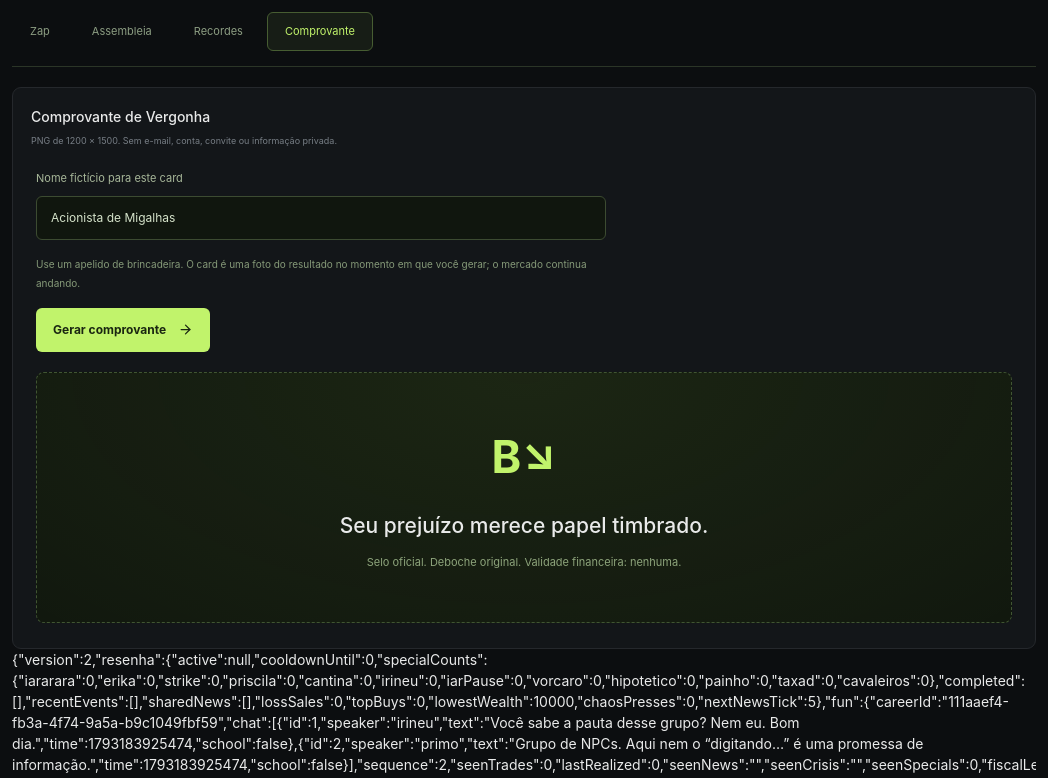
Test: Central da Resenha › comprovante não aparece como pronto se o PNG falhar
The image size is (1048, 778).
Click the button "Gerar comprovante" at (123, 330), box [36, 308, 210, 352]
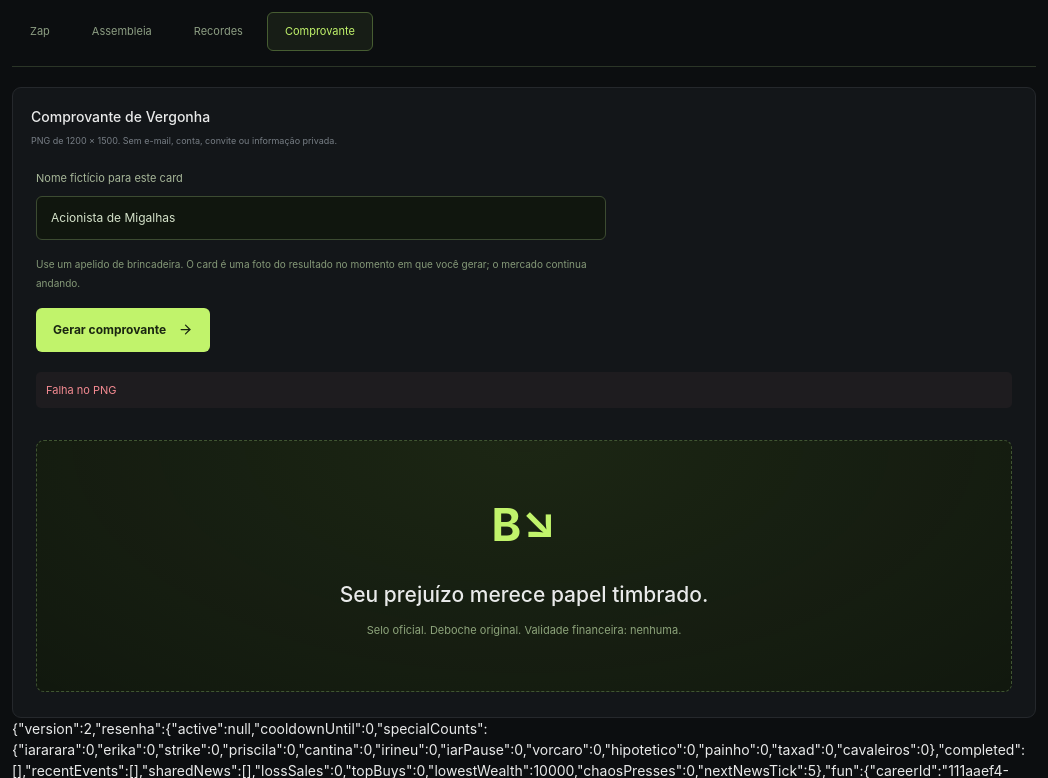
expect the message "Falha no PNG" is shown: met, box [36, 372, 1012, 408]
